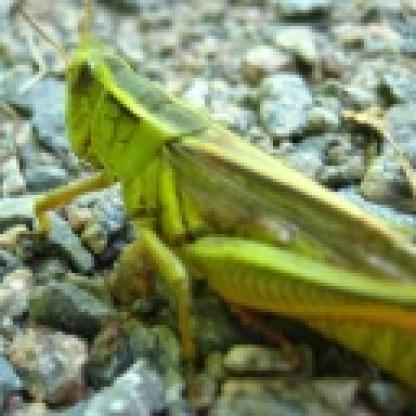grasshopper: (0, 1, 416, 393)
